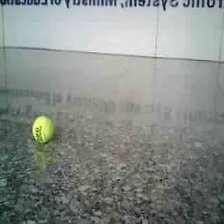tennis: (32, 116, 52, 143)
